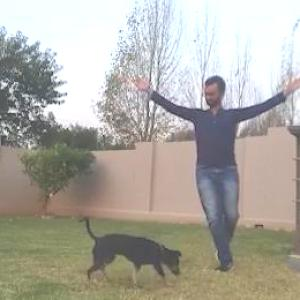takeoff: (136, 76, 299, 272)
